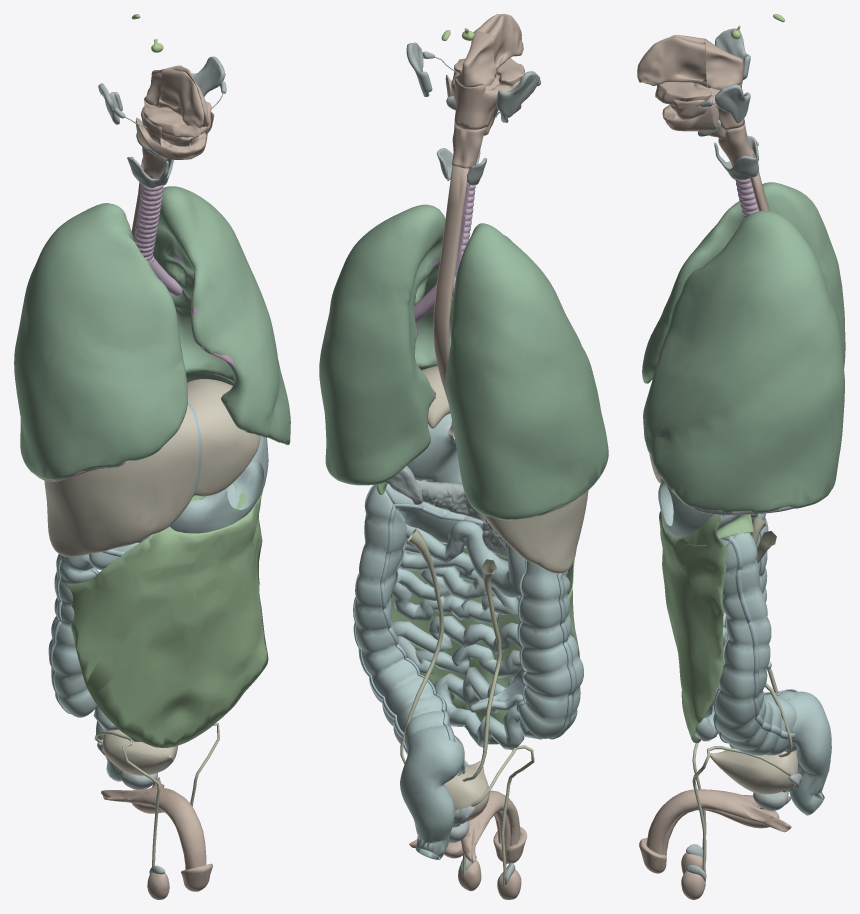
Rendered from organs.glb.
3 renders of one model, left to right at view 1: azimuth 30°, elevation 25°; view 2: azimuth 150°, elevation 25°; view 3: azimuth 270°, elevation 25°, orthographic. The views are drawn at different scales.
Visible parts, largest first — view 1: pleura, greater_omentum, liver, ascending_colon, stomach, corpus_cavernosum_of_penis, gingiva, mucosa_of_nasal_cavity, urinary_bladder, trachea, parotid_gland__l, mesocolic_taenia (+3 smaller); view 2: pleura, jejunum, descending_colon, ascending_colon, sigmoid_colon, liver, oesophagus, greater_omentum, duodenum, free_taenia, stomach, pancreas (+18 smaller); view 3: pleura, greater_omentum, descending_colon, sigmoid_colon, corpus_cavernosum_of_penis, mucosa_of_nasal_cavity, urinary_bladder, gingiva, stomach, mesocolic_taenia, nasopharynx, parotid_gland__l (+13 smaller).
Boxes of the visible parts, box(x1,y1,x2,y2) form: pleura: box(14, 186, 290, 480); greater_omentum: box(65, 482, 268, 747); liver: box(44, 379, 260, 556); ascending_colon: box(48, 554, 97, 717); stomach: box(170, 436, 268, 533); corpus_cavernosum_of_penis: box(101, 777, 206, 869); gingiva: box(135, 101, 211, 159); mucosa_of_nasal_cavity: box(159, 65, 210, 128); urinary_bladder: box(102, 729, 177, 775); trachea: box(133, 184, 163, 263); parotid_gland__l: box(191, 56, 225, 96); mesocolic_taenia: box(49, 549, 125, 713); pleura: box(319, 204, 608, 520); jejunum: box(391, 523, 541, 749); descending_colon: box(354, 484, 464, 775); ascending_colon: box(518, 560, 583, 738); sigmoid_colon: box(400, 727, 464, 859); liver: box(421, 366, 588, 573); oesophagus: box(433, 165, 468, 438); greater_omentum: box(391, 545, 579, 744); duodenum: box(449, 521, 526, 597); free_taenia: box(380, 503, 527, 741); stomach: box(407, 413, 462, 483); pancreas: box(390, 480, 507, 558); pleura: box(642, 182, 845, 513); greater_omentum: box(659, 498, 728, 743); descending_colon: box(715, 530, 796, 755); sigmoid_colon: box(787, 691, 831, 815); corpus_cavernosum_of_penis: box(646, 789, 791, 854); mucosa_of_nasal_cavity: box(637, 35, 706, 86); urinary_bladder: box(710, 748, 798, 794); gingiva: box(655, 82, 718, 131); stomach: box(658, 481, 740, 537); mesocolic_taenia: box(721, 536, 795, 739); nasopharynx: box(705, 39, 743, 89); parotid_gland__l: box(715, 84, 750, 123).
Bounding box in the file's own units: 0.2633 × 0.8931 × 0.1926.
